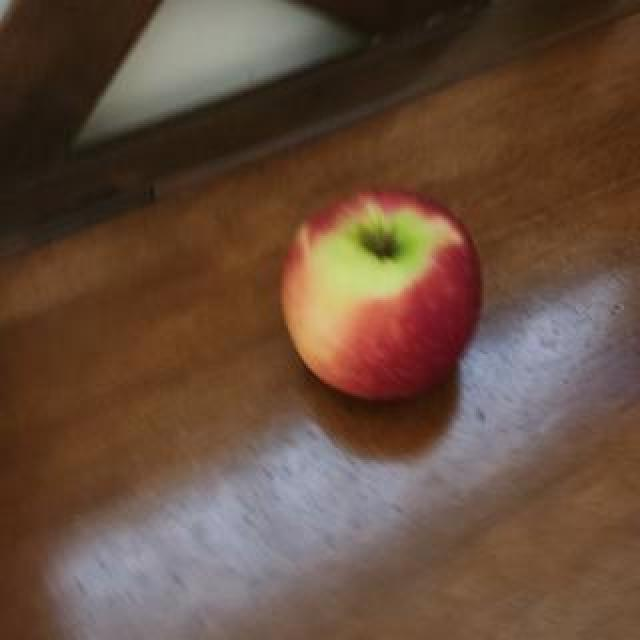Fresh Apple: (282, 202, 484, 416)
